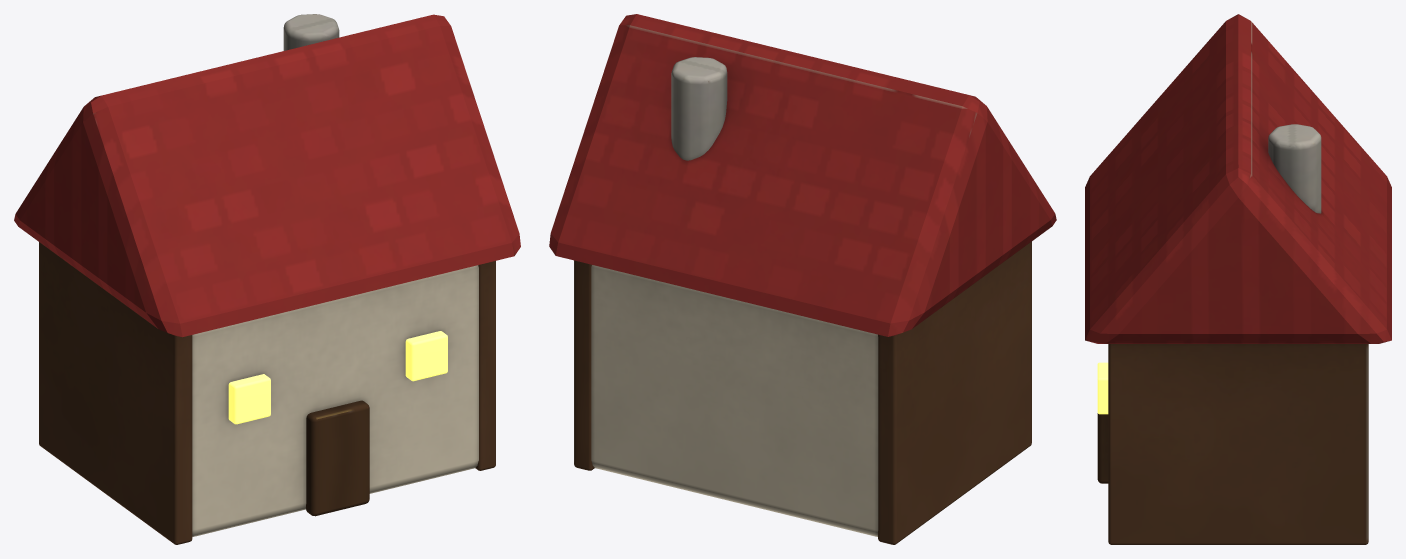
Rendered from house_red.glb.
3 renders of one model, left to right at view 1: azimuth 30°, elevation 25°; view 2: azimuth 150°, elevation 25°; view 3: azimuth 270°, elevation 25°, orthographic. The views are drawn at different scales.
Visible parts, largest first — view 1: house; view 2: house; view 3: house.
Boxes of the visible parts, x1,y1,x2,y2 form: house: (14,14,520,544); house: (549,14,1056,544); house: (1085,14,1391,544).
Size of the model in its own units: 0.5 by 0.5207 by 0.3809.
Materials: 2 (1 with a texture image).
